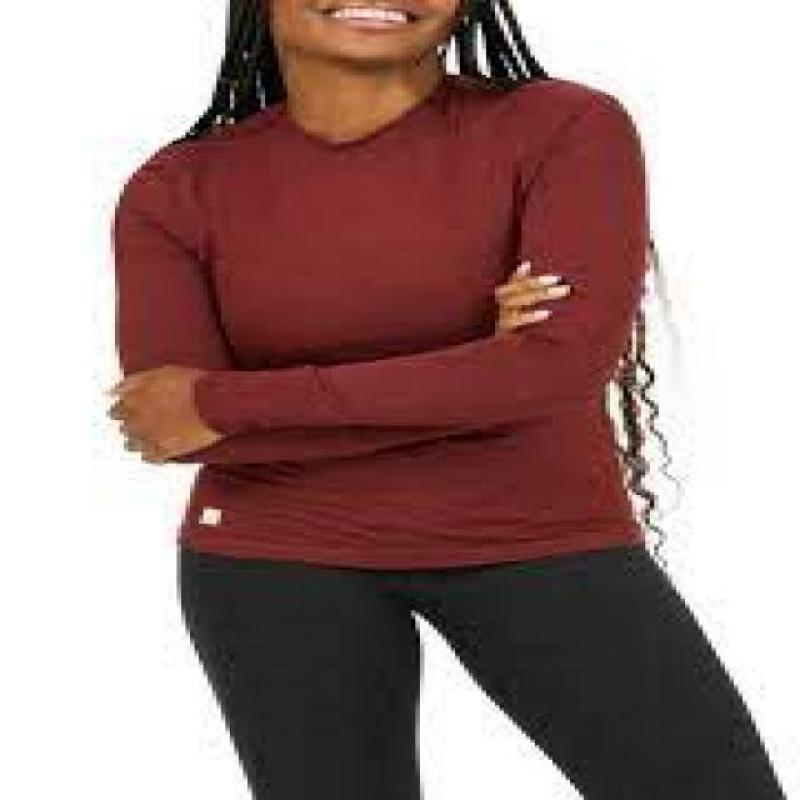long sleeve shirt: (111, 76, 649, 570)
trousers: (176, 539, 785, 800)
